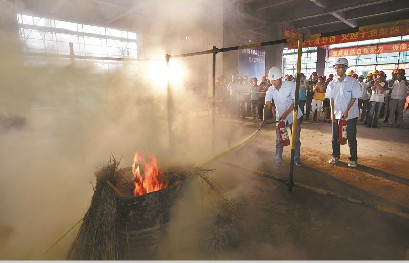fire: (129, 147, 171, 197)
